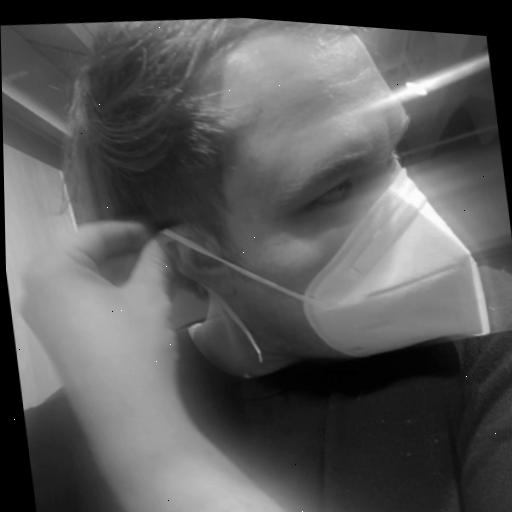mask: (63, 5, 508, 424)
